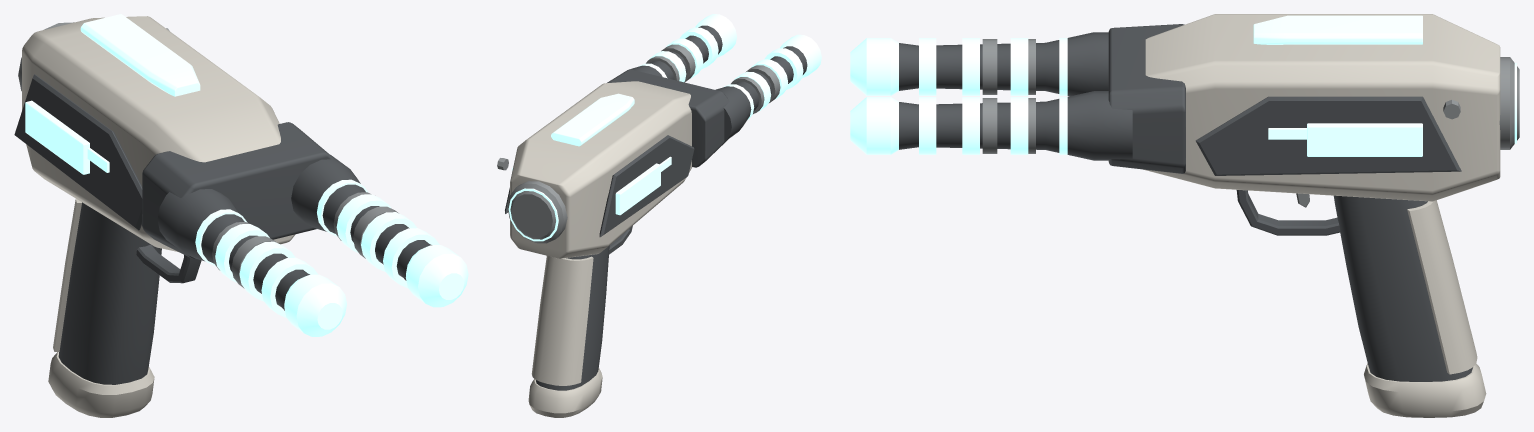
File: StunGun.fbx
3 views of the same model, side by side, from view 1: azimuth 30°, elevation 25°; view 2: azimuth 150°, elevation 25°; view 3: azimuth 270°, elevation 25° (orthographic). The views are drawn at different scales.
Parts seen in each view (by area): view 1: Receiver, PalmGrip, ProngBridge, FlankPanel, Prong, WarningBar, Prong.001, GripHeel, ProngTip, ProngTip.001, StunCapacitor, TriggerGuard (+11 smaller); view 2: Receiver, GripPanel, FlankPanel, ProngBridge, CellCap, PalmGrip, WarningBar, GripHeel, Prong, StunCapacitor, Prong.001, ProngTip (+11 smaller); view 3: Receiver, PalmGrip, FlankPanel.001, ProngBridge, Prong.001, Prong, GripPanel, WarningBar, GripHeel, StunCapacitor.001, ProngTip, ProngTip.001 (+10 smaller).
Boxes of the visible parts, x1,y1,x2,y2 form: Receiver: [22, 16, 295, 252]; PalmGrip: [58, 202, 161, 384]; ProngBridge: [142, 122, 336, 258]; FlankPanel: [14, 74, 142, 230]; Prong: [157, 189, 309, 310]; WarningBar: [80, 14, 200, 96]; Prong.001: [291, 155, 431, 280]; GripHeel: [48, 352, 154, 417]; ProngTip: [284, 274, 346, 336]; ProngTip.001: [405, 245, 468, 307]; StunCapacitor: [25, 100, 89, 174]; TriggerGuard: [136, 244, 201, 283]; Receiver: [510, 81, 692, 258]; GripPanel: [531, 256, 593, 385]; FlankPanel: [599, 135, 694, 237]; ProngBridge: [607, 69, 729, 167]; CellCap: [507, 181, 567, 243]; PalmGrip: [536, 245, 609, 390]; WarningBar: [551, 93, 634, 146]; GripHeel: [528, 367, 602, 417]; Prong: [715, 46, 807, 141]; StunCapacitor: [615, 163, 660, 215]; Prong.001: [630, 25, 722, 79]; ProngTip: [780, 34, 821, 78]; Receiver: [1142, 14, 1500, 201]; PalmGrip: [1333, 195, 1472, 381]; FlankPanel.001: [1195, 96, 1461, 175]; ProngBridge: [1108, 24, 1185, 173]; Prong.001: [899, 91, 1132, 160]; Prong: [899, 32, 1108, 96]; GripPanel: [1407, 200, 1477, 374]; WarningBar: [1253, 15, 1422, 44]; GripHeel: [1364, 363, 1486, 417]; StunCapacitor.001: [1307, 123, 1422, 156]; ProngTip: [850, 38, 898, 95]; ProngTip.001: [850, 97, 898, 154].
Size of the model in its own units: 0.216 by 0.43 by 0.692.
